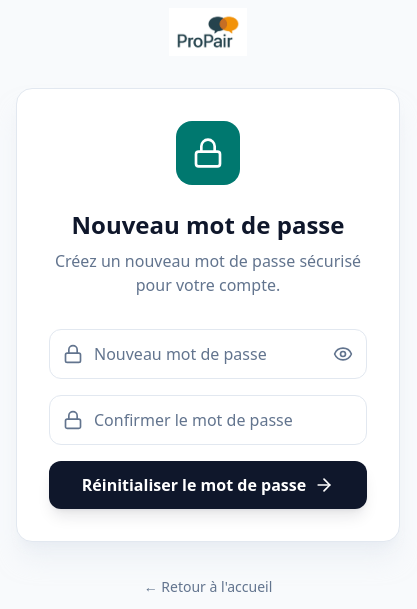
Test: UpdatePassword › with valid reset token › successful update shows success message
The width and height of the screenshot is (417, 609).
Type "newpassword123" into the password field labelled "Nouveau mot de passe" at (208, 354), box [49,329,367,379]
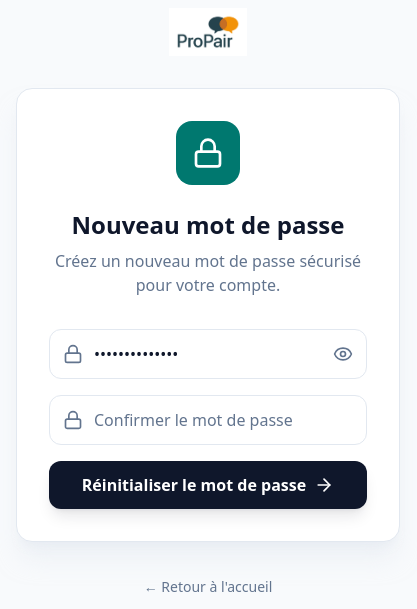
Type "newpassword123" into the password field labelled "Confirmer le mot de passe" at (208, 420), box [49,395,367,445]
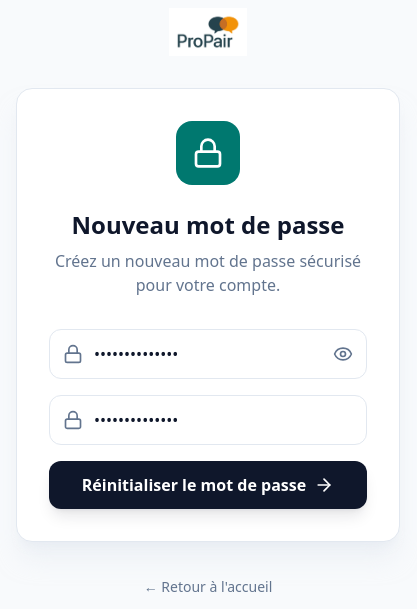
Submit the text "Réinitialiser le mot de passe", box [49,329,367,509]
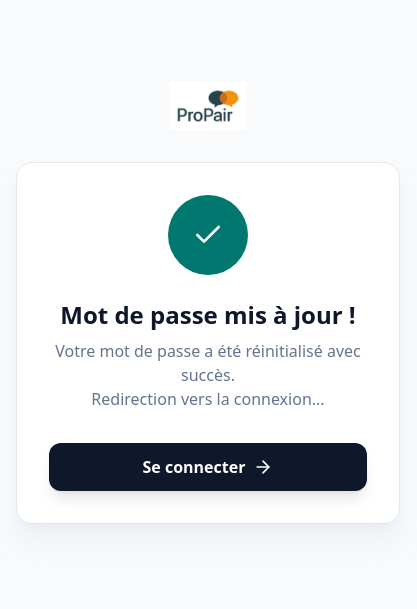
Check: the heading "Mot de passe mis à jour !" is shown, box [49,299,367,331]
